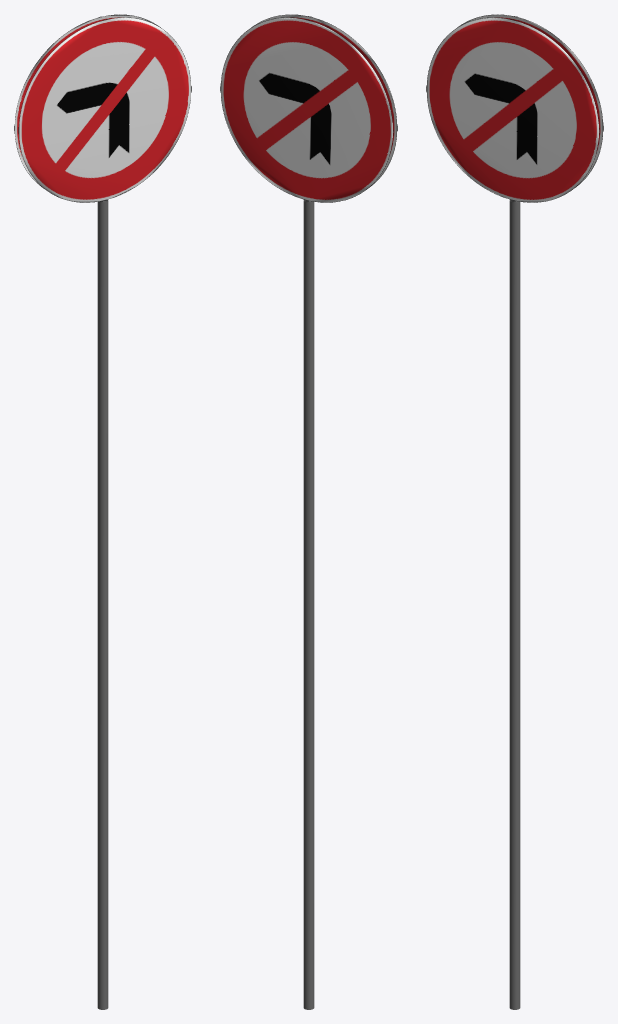
Rendered from tabela.dae.
The picture shows the model from 3 angles, left to right: view 1: azimuth 30°, elevation 25°; view 2: azimuth 150°, elevation 25°; view 3: azimuth 330°, elevation 25°; orthographic projection.
Visible parts, largest first — view 1: Yuvarlak İşaret; view 2: Yuvarlak İşaret; view 3: Yuvarlak İşaret.
Boxes of the visible parts, <box> form: Yuvarlak İşaret: <box>14,14,191,1009</box>; Yuvarlak İşaret: <box>220,14,397,1009</box>; Yuvarlak İşaret: <box>426,14,603,1009</box>.
Size of the model in its own units: 0.45 by 0.0242 by 2.45.
2 materials, 1 textured.
